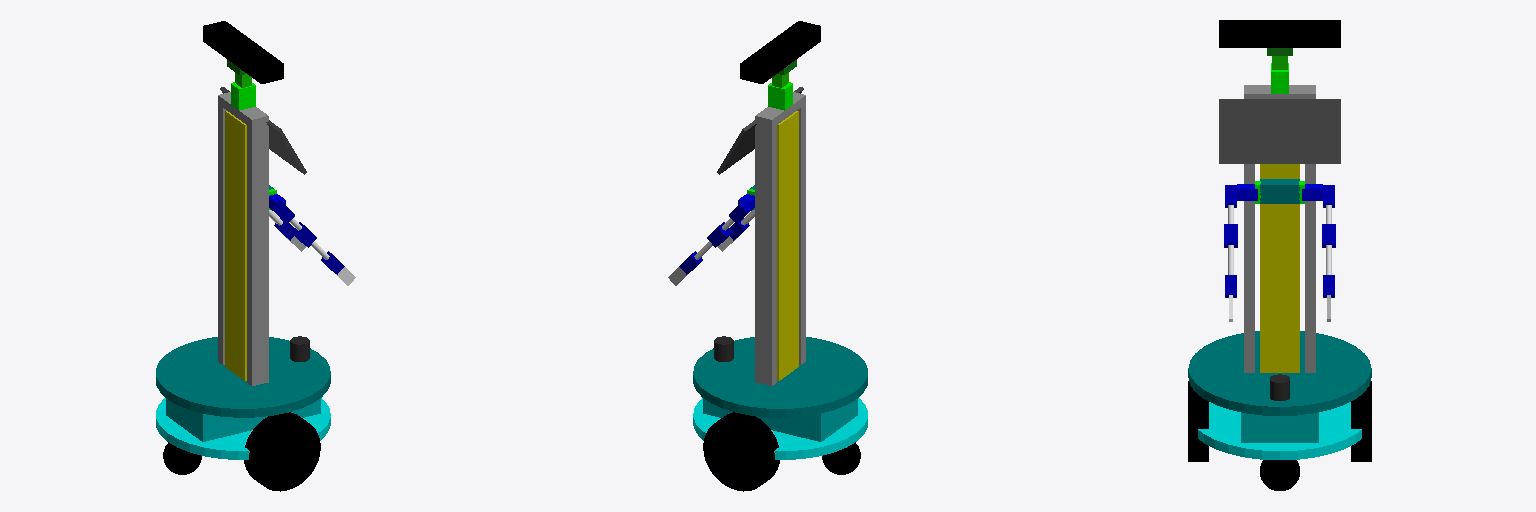
URDF robot description (morelab_robot):
<?xml version="1.0"?>

<robot name="morelab_robot">
<!-- * * * Link Definitions * * * -->

<link name="base_footprint" />
<!--link name="odom" /-->

<link name="base_link">
	<visual>
		<origin xyz="0 0 0.0125" rpy="0 0 0"/>
		<geometry>
			<cylinder radius="0.225" length="0.025"/>
		</geometry>
		<material name="Cyan1">
			<color rgba="0 0.9 0.9 1.0"/>
		</material>
	</visual>
</link>

<link name="front_wheel">
	<visual>
		<origin rpy="1.57075 1.57075 0" xyz="0.18 0 -0.05"/>
		<geometry>
			<sphere radius="0.05"/>
		</geometry>
		
		<material name="black">
			<color rgba="0 0 0 1"/>
		</material>
	</visual>
</link>

<link name="left_wheel">
	<visual>
		<origin rpy="1.57075 1.57075 0" xyz="0 0.2 0"/>
		<geometry>
			<cylinder length="0.05" radius="0.1"/>
		</geometry>
		
		<material name="black"/>
	</visual>
</link>

<link name="right_wheel">
	<visual>
		<origin rpy="1.57075 1.57075 0" xyz="0 -0.2 0"/>		
		<geometry>
			<cylinder length="0.05" radius="0.1"/>
		</geometry>
		
		<material name="black"/>
	</visual>
</link>

<link name="back_wheel">
	<visual>
		<origin rpy="1.57075 1.57075 0" xyz="-0.18 0 -0.05"/>
		<geometry>
			<sphere radius="0.05"/>
		</geometry>
		
		<material name="black"/>
	</visual>
</link>

<link name="cpu_link"><visual>
	<origin xyz="0 0 0.0475" rpy="0 0 0"/>
		<geometry>
			<box size="0.35 0.19 0.095"/>
		</geometry>
		<material name="Cyan2">
			<color rgba="0 0.7 0.7 1.0"/>
		</material>
	</visual>
</link>


<link name="upper_base_link">
	<visual>
		<origin xyz="0 0 0.0125" rpy="0 0 0"/>
		<geometry>
			<cylinder radius="0.225" length="0.025"/>
		</geometry>
		<material name="Cyan3">
			<color rgba="0 0.5 0.5 1.0"/>
		</material>
	</visual>
</link>

<!-- link name="base_imu"/ -->

<link name="base_imu">
  <inertial>
      <mass value="0.0001" />
      <origin xyz="0 0 0" />
      <inertia ixx="0.0001" ixy="0.0" ixz="0.0"
               iyy="0.0001" iyz="0.0" 
               izz="0.0001" />
  </inertial>
</link>

<link name="base_laser">
	<visual>
		<origin xyz="0 0 0.025" rpy="0 0 0"/>
		<geometry>
			<cylinder radius="0.025" length="0.05"/>
		</geometry>
		<material name="Black1">
			<color rgba="0.2 0.2 0.2 1.0"/>
		</material>
	</visual>
</link>


<link name="laser">
	
</link>


<link name="torso_link">
	<visual>
		<origin xyz="0 0 0.3625" rpy="0 0 0"/>
		<geometry>
			<box size="0.05 0.1 0.725"/>
		</geometry>
		<material name="Yellow2">
			<color rgba="0.8 0.8 0 1.0"/>
		</material>
	</visual>
</link>

<link name="top_torso_link">
	<visual>
		<origin xyz="0 0 -0.0125" rpy="0 0 0"/>
		<geometry>
			<box size="0.05 0.125 0.025"/>
		</geometry>
		<material name="Grey2">
			<color rgba="0.6 0.6 0.6 1.0"/>
		</material>
	</visual>
</link>

<link name="right_torso_link">
	<visual>
		<origin xyz="0 0 0.3775" rpy="0 0 0"/>
		<geometry>
			<box size="0.05 0.025 0.755"/>
		</geometry>
		<material name="Grey2">
			<color rgba="0.6 0.6 0.6 1.0"/>
		</material>
	</visual>
</link>

<link name="left_torso_link">
	<visual>
		<origin xyz="0 0 0.3775" rpy="0 0 0"/>
		<geometry>
			<box size="0.05 0.025 0.755"/>
		</geometry>
		<material name="Grey2">
			<color rgba="0.6 0.6 0.6 1.0"/>
		</material>
	</visual>
</link>


<link name="head_pan_link">
	<visual>
		<origin xyz="0 0 0.03" rpy="0 0 0"/>
		<geometry>
			<box size="0.05 0.045 0.06"/>
		</geometry>
		<material name="Green1">
			<color rgba="0 1 0 1.0"/>
		</material>
	</visual>
</link>

<link name="head_tilt_link">
	<visual>
		<origin xyz="0 0 0.0225" rpy="0 0 0"/>
		<geometry>
			<box size="0.03 0.038 0.045"/>
		</geometry>
		<material name="Green2">
			<color rgba="0.1 0.8 0 1.0"/>
		</material>
	</visual>
</link>

<link name="neck_link">
	<visual>
		<origin xyz="0 0 0.0125" rpy="0 0 0"/>
		<geometry>
			<box size="0.06 0.065 0.025"/>
		</geometry>
		<material name="Green3">
			<color rgba="0.1 0.5 0.1 1.0"/>
		</material>
	</visual>
</link>

<link name="head_link">
	<visual>
		<origin xyz="0.03 0 0.05" rpy="0 0 0"/>
		<geometry>
			<mesh filename="package://parallax_eddie_description/meshes/kinect.dae"/>
		</geometry>
		<material name="Grey1">
			<color rgba="0.9 0.9 0.9 1.0"/>
		</material>
	</visual>
</link>

<link name="camera_link">
  <inertial>
      <mass value="0.0001" />
      <origin xyz="0 0 0" />
      <inertia ixx="0.0001" ixy="0.0" ixz="0.0"
               iyy="0.0001" iyz="0.0" 
               izz="0.0001" />
  </inertial>
</link>

<link name="kinect_link">
	<visual>
		<origin xyz="0.0 0 0" rpy="0 0 0"/>
		<geometry>
			<box size="0.065 0.3 0.045"/>
		</geometry>
		<material name="black"/>
	</visual>
</link>

<link name="screen_link">
	<visual>
		<origin xyz="0.06 0 -0.11" rpy="0 -0.5 0"/>
		<geometry>
			<box size="0.01 0.3 0.16"/>
		</geometry>
		<material name="Grey3">
			<color rgba="0.3 0.3 0.3 1.0"/>
		</material>
	</visual>
</link>

<!--	
	<link name="eyes_link">
		<visual>
			<origin xyz="0 0 0.035" rpy="0 0 0" />
			<geometry>
				<box size="0.01 0.04 0.01" />
			</geometry>
	     	<material name="Blue2">
				<color rgba="0 0 0.7 1.0"/>
			</material>
	   </visual>
	</link>
-->
<!--link name="antenna_link"><visual><origin xyz="0 0 0.035" rpy="0 0 0"/><geometry><cylinder radius="0.002" length="0.05"/></geometry><material name="Grey3"><color rgba="0.8 0.8 0.8 1.0"/></material></visual></link-->

<link name="shoulder_link">
	<visual>
		<origin xyz="0 0 0" rpy="0 0 0"/>
		<geometry>
			<box size="0.075 0.1 0.05"/>
		</geometry>
		<material name="Cyan3">
			<color rgba="0 0.5 0.5 1.0"/>
		</material>
	</visual>
</link>

<link name="left_shoulder_link">
	<visual>
		<origin xyz="0 0 0" rpy="0 0 0"/>
		<geometry>
			<box size="0.025 0.015 0.05"/>
		</geometry><material name="Green1">
			<color rgba="0 1 0 1.0"/>
		</material>
	</visual>
</link>

<link name="right_shoulder_link">
	<visual>
		<origin xyz="0 0 0" rpy="0 0 0"/>
		<geometry>
			<box size="0.025 0.015 0.05"/>
		</geometry>
		<material name="Green1">
			<color rgba="0 1 0 1.0"/>
		</material>
	</visual>
</link>

<link name="left_shoulder_forward_link"><visual><origin xyz="0 0 0" rpy="0 0 0"/><geometry><box size="0.03 0.05 0.03"/></geometry><material name="Blue1"><color rgba="0 0 0.9 1.0"/></material></visual></link>
<link name="right_shoulder_forward_link"><visual><origin xyz="0 0 0" rpy="0 0 0"/><geometry><box size="0.03 0.05 0.03"/></geometry><material name="Blue1"><color rgba="0 0 0.9 1.0"/></material></visual></link>
<link name="left_shoulder_up_link"><visual><origin xyz="0 0 0" rpy="1.57 0 0"/><geometry><box size="0.03 0.05 0.03"/></geometry><material name="Blue2"><color rgba="0 0 0.7 1.0"/></material></visual></link>
<link name="right_shoulder_up_link"><visual><origin xyz="0 0 0" rpy="1.57 0 0"/><geometry><box size="0.03 0.05 0.03"/></geometry><material name="Blue2"><color rgba="0 0 0.7 1.0"/></material></visual></link>
<link name="left_upper_arm_link"><visual><origin xyz="0 0 0" rpy="0 0 0"/><geometry><cylinder radius="0.0075" length="0.05"/></geometry><material name="Grey1"><color rgba="0.9 0.9 0.9 1.0"/></material></visual></link>
<link name="right_upper_arm_link"><visual><origin xyz="0 0 0" rpy="0 0 0"/><geometry><cylinder radius="0.0075" length="0.05"/></geometry><material name="Grey1"><color rgba="0.9 0.9 0.9 1.0"/></material></visual></link>
<link name="left_elbow_link"><visual><origin xyz="0 0 0" rpy="0 0 1.57"/><geometry><box size="0.035 0.035 0.05"/></geometry><material name="Blue2"><color rgba="0 0 0.7 1.0"/></material></visual></link>
<link name="right_elbow_link"><visual><origin xyz="0 0 0" rpy="0 0 1.57"/><geometry><box size="0.035 0.035 0.05"/></geometry><material name="Blue2"><color rgba="0 0 0.7 1.0"/></material></visual></link>
<link name="left_lower_arm_link"><visual><origin xyz="0 0 0" rpy="0 0 0"/><geometry><cylinder radius="0.0075" length="0.11"/></geometry><material name="Grey1"><color rgba="0.9 0.9 0.9 1.0"/></material></visual></link>
<link name="right_lower_arm_link"><visual><origin xyz="0 0 0" rpy="0 0 0"/><geometry><cylinder radius="0.0075" length="0.11"/></geometry><material name="Grey1"><color rgba="0.9 0.9 0.9 1.0"/></material></visual></link>
<link name="left_wrist_link"><visual><origin xyz="0 0 0" rpy="1.57 0 0"/><geometry><box size="0.03 0.05 0.03"/></geometry><material name="Blue2"><color rgba="0 0 0.7 1.0"/></material></visual></link>
<link name="right_wrist_link"><visual><origin xyz="0 0 0" rpy="1.57 0 0"/><geometry><box size="0.03 0.05 0.03"/></geometry><material name="Blue2"><color rgba="0 0 0.7 1.0"/></material></visual></link>
<link name="left_hand_link"><visual><origin xyz="0 0 0" rpy="0 0 0"/><geometry><box size="0.03 0.01 0.06"/></geometry><material name="Grey1"><color rgba="0.7 0.7 0.7 1.0"/></material></visual></link>
<link name="right_hand_link"><visual><origin xyz="0 0 0" rpy="0 0 0"/><geometry><box size="0.03 0.01 0.06"/></geometry><material name="Grey1"><color rgba="0.9 0.9 0.9 1.0"/></material></visual></link>
<!-- * * * Joint Definitions * * * -->
<!--
<joint name="map_odom_to_base" type="fixed">
	<parent link="odom"/>
	<child link="base_link"/>
	<origin xyz="0 0 0.1"/>
</joint>

<joint name="base_footprint_to_odom" type="continuous">
	<parent link="base_footprint"/>
	<child link="odom"/>
	<origin xyz="0 0 0"/>
        <axis xyz="1 1 0 "/>
	<limit effort="100" velocity="100"/>
	<dynamics damping="0.0" friction="0.0"/>

</joint>
-->

<joint name="base_footprint_joint" type="fixed">
	<parent link="base_footprint"/>
	<child link="base_link"/>
	<origin xyz="0 0 0.1"/>
</joint>

<joint name="base_to_front_wheel" type="fixed">
	<parent link="base_link"/>
	<child link="front_wheel"/>
	<origin xyz="0 0 0"/>
</joint>

<joint name="base_to_left_wheel" type="fixed">
	<parent link="base_link"/>
	<child link="left_wheel"/>
	<origin xyz="0 0 0"/>
	
</joint>

<joint name="base_to_right_wheel" type="fixed">
	<parent link="base_link"/>
	<child link="right_wheel"/>
	<origin xyz="0 0 0"/>
	
</joint>

<joint name="base_to_back_wheel" type="fixed">
	<parent link="base_link"/>
	<child link="back_wheel"/>
	<origin xyz="0 0 0"/>

</joint>

<joint name="cpu_joint" type="fixed">
	<parent link="base_link"/>
	<child link="cpu_link"/>
	<origin xyz="0 0 0.025" rpy="0 0 0"/>
</joint>

<joint name="upper_base_joint" type="fixed">
	<parent link="cpu_link"/>
	<child link="upper_base_link"/>
	<origin xyz="0 0 0.095" rpy="0 0 0"/>
</joint>

<joint name="base_laser_joint" type="fixed">
	<parent link="upper_base_link"/>
	<child link="base_laser"/>
	<origin xyz="0.168 0 0.025" rpy="0 0 0"/>
</joint>

<joint name="laser_joint" type="fixed">
  	<parent link="base_laser" />
  	<child link="laser" />
	<origin xyz="0 0 0.1" rpy="0 0 0" />
</joint>

<joint name="base_imu_joint" type="fixed">
	<parent link="upper_base_link"/>
	<child link="base_imu"/>
	<origin xyz="0.095 0 0.025" rpy="0 0 0"/>
</joint>

<joint name="torso_joint" type="fixed">
	<parent link="upper_base_link"/>
	<child link="torso_link"/>
	<origin xyz="0 0 0.025" rpy="0 0 0"/>
	
</joint>

<joint name="top_torso_joint" type="fixed">
	<parent link="torso_link"/>
	<child link="top_torso_link"/>
	<origin xyz="0 0 0.755" rpy="0 0 0"/>
	
</joint>

<joint name="right_torso_joint" type="fixed">
	<parent link="upper_base_link"/>
	<child link="right_torso_link"/>
	<origin xyz="0 -0.075 0.025" rpy="0 0 0"/>
</joint>

<joint name="left_torso_joint" type="fixed">
	<parent link="upper_base_link"/>
	<child link="left_torso_link"/>
	<origin xyz="0 0.075 0.025" rpy="0 0 0"/>
</joint>


<joint name="head_pan_servo" type="fixed">
	<parent link="top_torso_link"/>
	<child link="head_pan_link"/>
	<origin xyz="0 0 0" rpy="0 0 0"/>
</joint>

<joint name="head_pan_joint" type="fixed">
	<parent link="head_pan_link"/>
	<child link="head_tilt_link"/>
	<origin xyz="0 0 0.06" rpy="0 0 0"/>
	
</joint>

<joint name="head_tilt_joint" type="fixed">
	<parent link="head_tilt_link"/>
	<child link="neck_link"/>
	<origin xyz="0 0 0.045" rpy="0 0 0"/>
	
</joint>

<joint name="neck_joint" type="fixed">
	<parent link="neck_link"/>
	<child link="head_link"/>
	<origin xyz="0 0 0.025" rpy="0 0 0"/>
</joint>

<joint name="kinect_joint" type="fixed">
	<parent link="neck_link"/>
	<child link="kinect_link"/>
	<origin xyz="0 0 0.045" rpy="0 0 0"/>
</joint>

<joint name="camera_joint" type="fixed">
  	<origin xyz="0 0 0.065" rpy="0 0 0" />
  	<parent link="head_link" />
  	<child link="camera_link" />
</joint>

<joint name="screen_joint" type="fixed">
	<parent link="top_torso_link"/>
	<child link="screen_link"/>
	<origin xyz="0 0 0.025" rpy="0 0 0"/>
</joint>

<!--<joint name="eyes_joint" type="fixed"><parent link="head_link" /><child link="eyes_link" /><origin xyz="0.02 0 0.03" rpy="0 0 0" />
	</joint>
-->
<!--joint name="antenna_joint" type="fixed"><parent link="head_link"/><child link="antenna_link"/><origin xyz="0.0 -0.025 0.065" rpy="0 0 0"/></joint -->

<!--joint name="shoulder_joint" type="prismatic">
	<parent link="upper_base_link"/>
	<child link="shoulder_link"/>
	<axis xyz="0 0 1"/>	
	<limit effort="1000.0" lower="-0.5" upper="0.1" velocity="0.5"/>
	<origin xyz="0.025 0 0.6" rpy="0 0 0"/>
	
</joint-->

<joint name="shoulder_joint" type="fixed">
	<parent link="torso_link"/>
	<child link="shoulder_link"/>
	<!--origin xyz="0.025 0 0.6" rpy="0 0 0"/-->	
	<origin xyz="0.025 0 0.50" rpy="0 0 0"/>
	
</joint>


<joint name="left_shoulder_joint" type="fixed">
	<parent link="shoulder_link"/>
	<child link="left_shoulder_link"/>
	<origin xyz="0.025 0.055 0" rpy="0 0 0"/>
</joint>

<joint name="right_shoulder_joint" type="fixed">
	<parent link="shoulder_link"/>
	<child link="right_shoulder_link"/>
	<origin xyz="0.025 -0.055 0" rpy="0 0 0"/>
</joint>

<joint name="left_shoulder_forward_joint" type="fixed"><parent link="left_shoulder_link"/><child link="left_shoulder_forward_link"/><origin xyz="0 0.025 0" rpy="0 0 0"/></joint>
<joint name="right_shoulder_forward_joint" type="fixed"><parent link="right_shoulder_link"/><child link="right_shoulder_forward_link"/><origin xyz="0 -0.025 0" rpy="0 0 0"/></joint>
<joint name="left_shoulder_up_joint" type="fixed"><parent link="left_shoulder_forward_link"/><child link="left_shoulder_up_link"/><origin xyz="0 0.04 -0.01" rpy="0 -0.707 0"/></joint>
<joint name="right_shoulder_up_joint" type="fixed"><parent link="right_shoulder_forward_link"/><child link="right_shoulder_up_link"/><origin xyz="0 -0.04 -0.01" rpy="0 -0.707 0"/></joint>
<joint name="left_upper_arm_joint" type="fixed"><parent link="left_shoulder_up_link"/><child link="left_upper_arm_link"/><origin xyz="0 0 -0.05" rpy="0 0 0"/></joint>
<joint name="right_upper_arm_joint" type="fixed"><parent link="right_shoulder_up_link"/><child link="right_upper_arm_link"/><origin xyz="0 0 -0.05" rpy="0 0 0"/></joint>
<joint name="left_elbow_joint" type="fixed"><parent link="left_upper_arm_link"/><child link="left_elbow_link"/><origin xyz="-0.005 0 -0.05" rpy="0 0 0"/></joint>
<joint name="right_elbow_joint" type="fixed"><parent link="right_upper_arm_link"/><child link="right_elbow_link"/><origin xyz="-0.005 0 -0.05" rpy="0 0 0"/></joint>
<joint name="left_lower_arm_joint" type="fixed"><parent link="left_elbow_link"/><child link="left_lower_arm_link"/><origin xyz="0 0 -0.08" rpy="0 0 0"/></joint>
<joint name="right_lower_arm_joint" type="fixed"><parent link="right_elbow_link"/><child link="right_lower_arm_link"/><origin xyz="0 0 -0.08" rpy="0 0 0"/></joint>
<joint name="left_wrist_joint" type="fixed"><parent link="left_lower_arm_link"/><child link="left_wrist_link"/><origin xyz="0 0 -0.05" rpy="0 0 0"/></joint>
<joint name="right_wrist_joint" type="fixed"><parent link="right_lower_arm_link"/><child link="right_wrist_link"/><origin xyz="0 0 -0.05" rpy="0 0 0"/></joint>
<joint name="left_hand_joint" type="fixed"><parent link="left_wrist_link"/><child link="left_hand_link"/><origin xyz="0 0 -0.055" rpy="0 0 0"/></joint>
<joint name="right_hand_joint" type="fixed"><parent link="right_wrist_link"/><child link="right_hand_link"/><origin xyz="0 0 -0.055" rpy="0 0 0"/></joint>

</robot>

--- Facts derived from the render (not from the file) ---
Views: 3 orthographic renders of the robot side by side, from view 1: azimuth 30°, elevation 25°; view 2: azimuth 150°, elevation 25°; view 3: azimuth 270°, elevation 25°.
Model morelab_robot with 39 links and 38 joints (38 fixed), rooted at base_footprint, posed every joint at zero.
Visible links, largest first — view 1: upper_base_link, right_torso_link, torso_link, right_wheel, base_link, kinect_link, cpu_link, left_torso_link, screen_link, back_wheel, head_pan_link; view 2: upper_base_link, left_torso_link, torso_link, left_wheel, base_link, kinect_link, cpu_link, right_torso_link, screen_link, back_wheel, head_pan_link; view 3: upper_base_link, screen_link, torso_link, base_link, kinect_link, right_torso_link, left_torso_link, cpu_link, left_wheel, right_wheel, front_wheel, shoulder_link (+1 smaller).
Boxes of the visible links, bbox=[...] form: upper_base_link: bbox=[156, 337, 330, 417]; right_torso_link: bbox=[247, 112, 268, 385]; torso_link: bbox=[225, 111, 246, 380]; right_wheel: bbox=[244, 412, 320, 491]; base_link: bbox=[156, 398, 330, 459]; kinect_link: bbox=[203, 21, 283, 83]; cpu_link: bbox=[166, 398, 320, 441]; left_torso_link: bbox=[218, 92, 230, 364]; screen_link: bbox=[220, 87, 306, 174]; back_wheel: bbox=[163, 442, 201, 474]; head_pan_link: bbox=[231, 82, 255, 110]; upper_base_link: bbox=[693, 337, 867, 417]; left_torso_link: bbox=[755, 112, 776, 385]; torso_link: bbox=[777, 111, 798, 380]; left_wheel: bbox=[703, 412, 779, 491]; base_link: bbox=[693, 398, 867, 459]; kinect_link: bbox=[740, 21, 820, 83]; cpu_link: bbox=[703, 398, 857, 441]; right_torso_link: bbox=[793, 92, 805, 364]; screen_link: bbox=[717, 87, 803, 174]; back_wheel: bbox=[822, 442, 860, 474]; head_pan_link: bbox=[768, 82, 792, 110]; upper_base_link: bbox=[1188, 331, 1371, 415]; screen_link: bbox=[1219, 99, 1340, 163]; torso_link: bbox=[1260, 164, 1299, 372]; base_link: bbox=[1198, 402, 1361, 459]; kinect_link: bbox=[1219, 20, 1340, 47]; right_torso_link: bbox=[1244, 85, 1254, 372]; left_torso_link: bbox=[1305, 85, 1315, 372]; cpu_link: bbox=[1241, 412, 1318, 442]; left_wheel: bbox=[1351, 381, 1371, 461]; right_wheel: bbox=[1188, 381, 1208, 461]; front_wheel: bbox=[1260, 460, 1299, 490]; shoulder_link: bbox=[1260, 179, 1299, 203].
Size in the robot's own frame: 0.4922 by 0.45 by 1.17 metres.
0 mesh visuals loaded from 1 distinct referenced files (none loaded); not drawn: 1 (reference not matched to a file when rendering).
